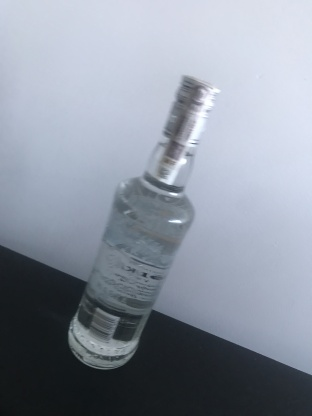nakretka: (160, 71, 222, 150)
